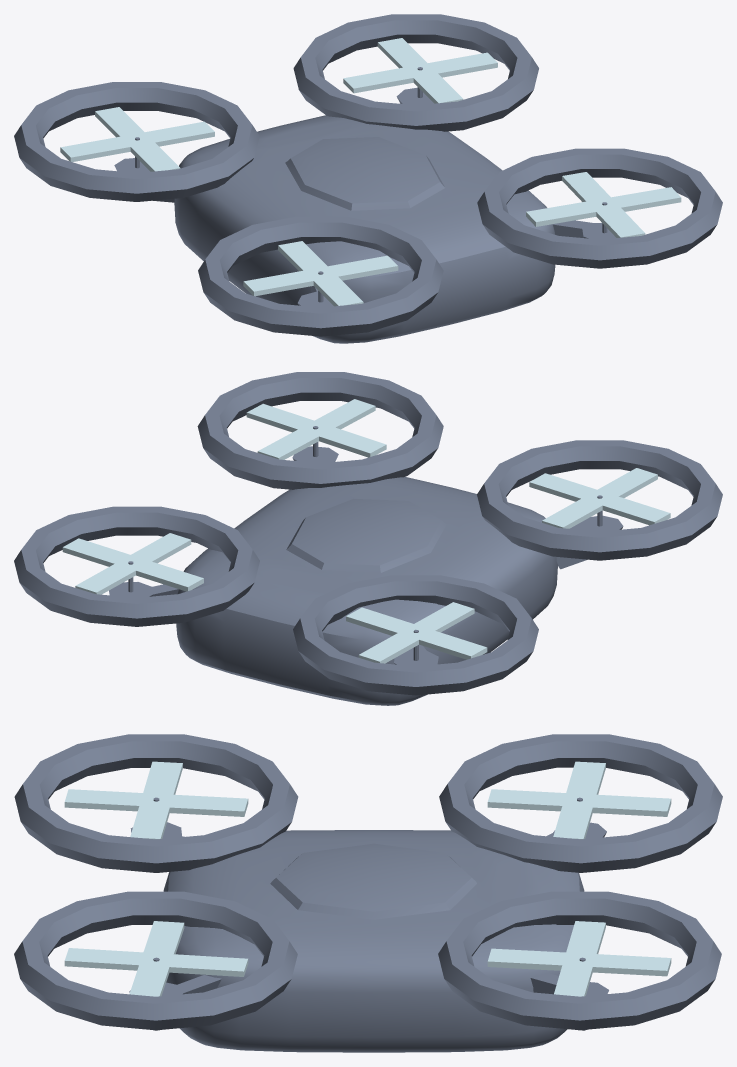
Rendered from drone.fbx.
3 views of the same model, one above another, from view 1: azimuth 30°, elevation 25°; view 2: azimuth 150°, elevation 25°; view 3: azimuth 270°, elevation 25° (orthographic). The views are drawn at different scales.
Parts seen in each view (by area): view 1: Body, Wing1, Wing4, Wing2, Wing3; view 2: Body, Wing4, Wing3, Wing1, Wing2; view 3: Body, Wing2, Wing3, Wing1, Wing4.
Part boxes in pixels (bbox=[...]): Body: bbox=[14, 14, 722, 343]; Wing1: bbox=[526, 172, 681, 237]; Wing4: bbox=[343, 38, 497, 103]; Wing2: bbox=[243, 241, 398, 306]; Wing3: bbox=[60, 107, 214, 171]; Body: bbox=[14, 372, 722, 705]; Wing4: bbox=[62, 533, 203, 594]; Wing3: bbox=[346, 602, 487, 663]; Wing1: bbox=[246, 399, 386, 459]; Wing2: bbox=[529, 468, 670, 528]; Body: bbox=[14, 734, 722, 1052]; Wing2: bbox=[64, 761, 248, 839]; Wing3: bbox=[487, 761, 671, 839]; Wing1: bbox=[64, 921, 248, 996]; Wing4: bbox=[487, 921, 671, 996].
Size of the model in its own units: 427 by 93.76 by 462.
